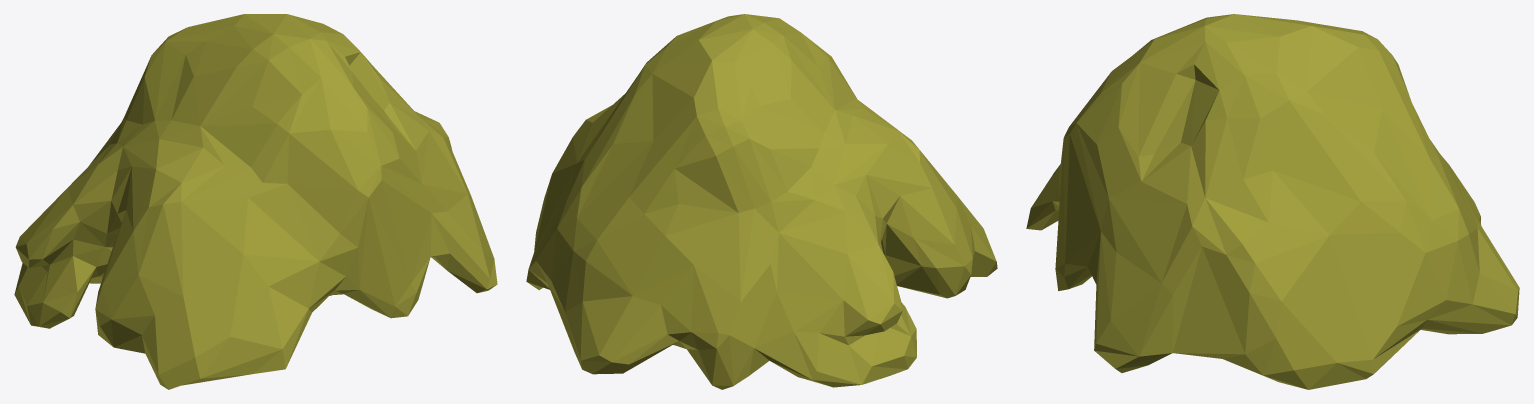
The model's file is TREE4_NN_leaves.fbx.
3 renders of one model, left to right at view 1: azimuth 30°, elevation 25°; view 2: azimuth 150°, elevation 25°; view 3: azimuth 270°, elevation 25°, orthographic. The views are drawn at different scales.
Visible parts, largest first — view 1: polySurface20; view 2: polySurface20; view 3: polySurface20.
Boxes of the visible parts, left/top/right/bottom form: polySurface20: left=14, top=14, right=497, bottom=389; polySurface20: left=526, top=14, right=997, bottom=389; polySurface20: left=1026, top=14, right=1519, bottom=389.
Size of the model in its own units: 26.09 by 17.45 by 26.04.
